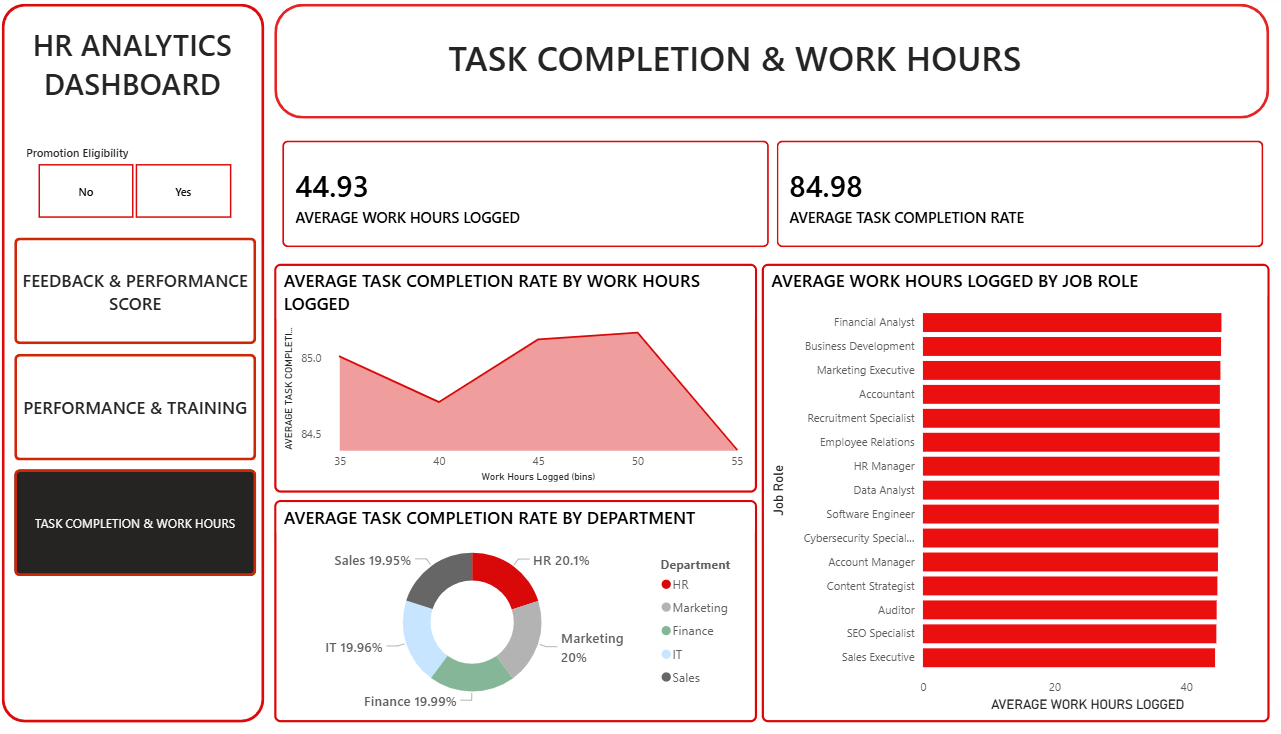

This screenshot's page, from the dashboard's own definition file:
{"tool":"powerbi","page":{"name":"TASK COMPLETION & WORK HOURS","canvas":[1400,800],"ordinal":2},"visuals":[{"type":"shape","box":[9.5,4.1,285.3,781.3],"z":0},{"type":"cardVisual","fields":{"Data":["Employee_Performance_Dataset.AVERAGE WORK HOURS LOGGED","Employee_Performance_Dataset.AVERAGE TASK COMPLETION RATE"]},"box":[297.6,135.9,1101.9,150.8],"z":1000},{"type":"stackedAreaChart","title":"AVERAGE TASK COMPLETION RATE BY WORK HOURS LOGGED","fields":{"Y":["Employee_Performance_Dataset.AVERAGE TASK COMPLETION RATE"],"Category":["Employee_Performance_Dataset.Work Hours Logged (bins)"]},"box":[305.7,286.7,524.5,248.6],"z":2000},{"type":"barChart","title":"AVERAGE WORK HOURS LOGGED BY JOB ROLE","fields":{"Category":["Employee_Performance_Dataset.Job Role"],"Y":["Employee_Performance_Dataset.AVERAGE WORK HOURS LOGGED"]},"box":[835.6,286.7,551.6,498.6],"z":3000},{"type":"donutChart","title":"AVERAGE TASK COMPLETION RATE BY DEPARTMENT","fields":{"Y":["Employee_Performance_Dataset.AVERAGE TASK COMPLETION RATE"],"Category":["Employee_Performance_Dataset.Department"]},"box":[305.7,543.5,524.5,241.8],"z":4000},{"type":"slicer","fields":{"Values":["Employee_Performance_Dataset.Promotion Eligibility"]},"box":[22.5,153.1,259.6,90.1],"z":5000},{"type":"textbox","box":[20.4,21.7,262.2,114.1],"z":6000},{"type":"pageNavigator","box":[23.1,258.2,263,369.6],"z":7000},{"type":"shape","box":[305.7,4.1,1081.5,125],"z":8000},{"type":"textbox","box":[483.7,32.6,645.4,67.9],"z":9000}]}

Visuals, with their boxes in screenshot pixels (x1, y1, x2, y2), scaled from the page's 1400x800 canvas onto the 1281x734 screenshot:
shape: BBox(9, 4, 270, 721)
cardVisual - Employee_Performance_Dataset.AVERAGE WORK HOURS LOGGED x Employee_Performance_Dataset.AVERAGE TASK COMPLETION RATE: BBox(272, 125, 1280, 263)
"AVERAGE TASK COMPLETION RATE BY WORK HOURS LOGGED" stackedAreaChart: BBox(280, 263, 760, 491)
"AVERAGE WORK HOURS LOGGED BY JOB ROLE" barChart: BBox(765, 263, 1269, 721)
"AVERAGE TASK COMPLETION RATE BY DEPARTMENT" donutChart: BBox(280, 499, 760, 721)
slicer - Employee_Performance_Dataset.Promotion Eligibility: BBox(21, 140, 258, 223)
textbox: BBox(19, 20, 259, 125)
pageNavigator: BBox(21, 237, 262, 576)
shape: BBox(280, 4, 1269, 118)
textbox: BBox(443, 30, 1033, 92)
